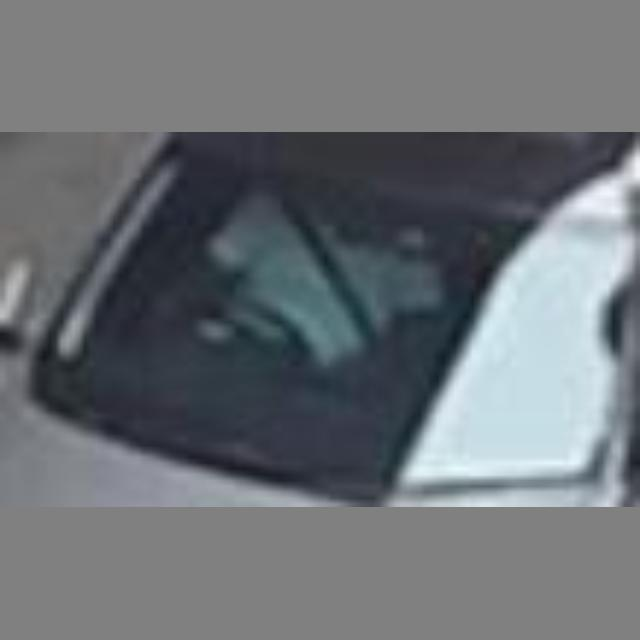pakai: (200, 155, 417, 414)
